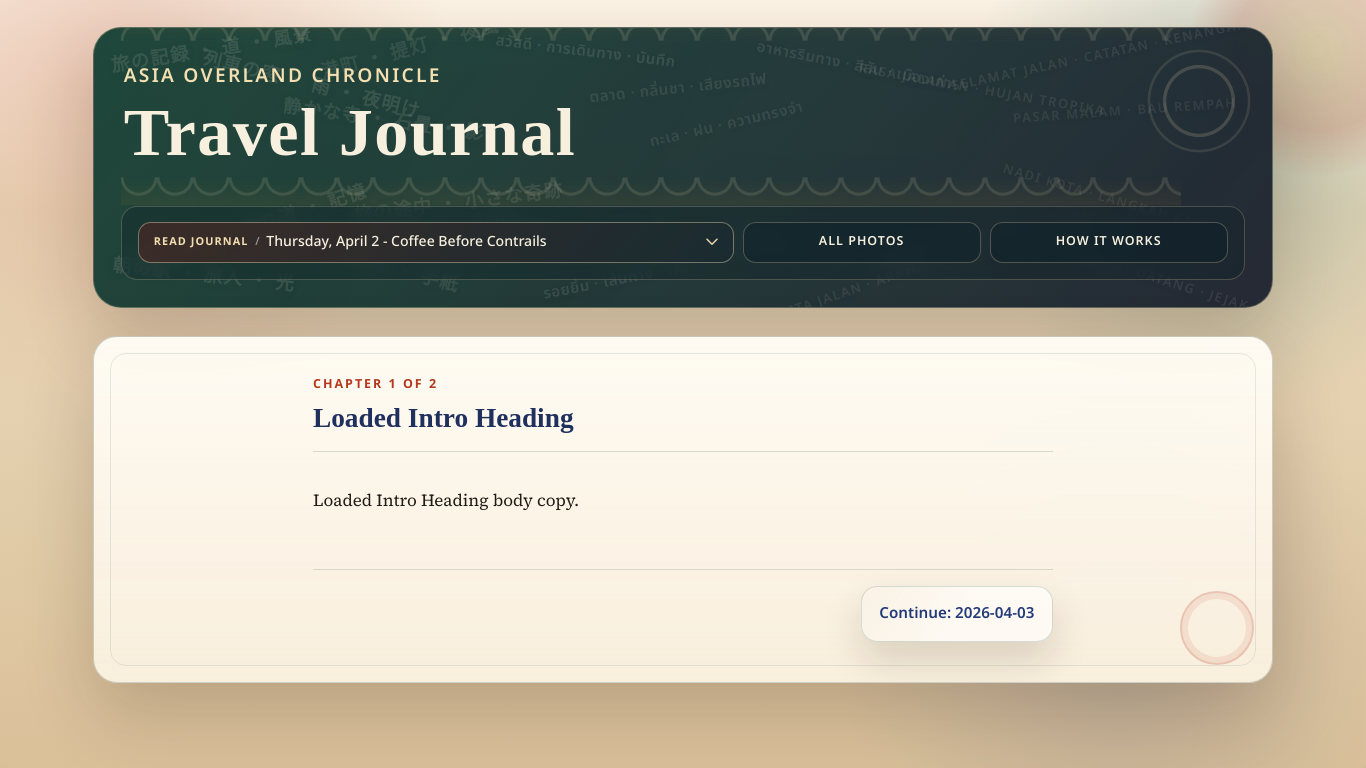
Test: App › shows a photo indicator in the chapter dropdown only for chapters with photos
Click the button "Read Journal / Thursday, April 2 - Coffee Before Contrails".
click(436, 242)  # box [138, 222, 734, 263]
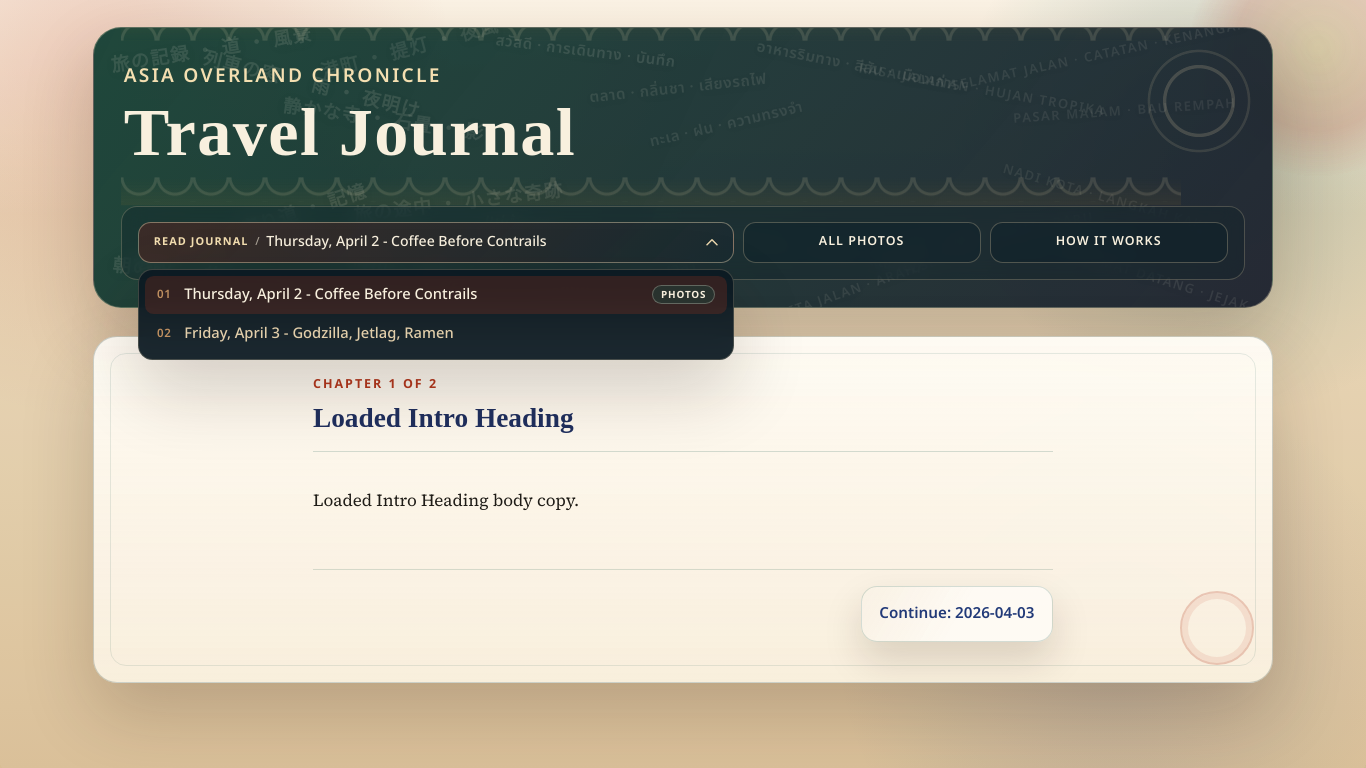
Expected: the option "02 Friday, April 3 - Godzilla, Jetlag, Ramen" does not show "Photos", [157, 322, 454, 345]
Expected: the option "01 Thursday, April 2 - Coffee Before Contrails Photos" is shown, [145, 276, 727, 314]
Expected: the text named "Includes photos" is shown, [652, 286, 715, 304]
